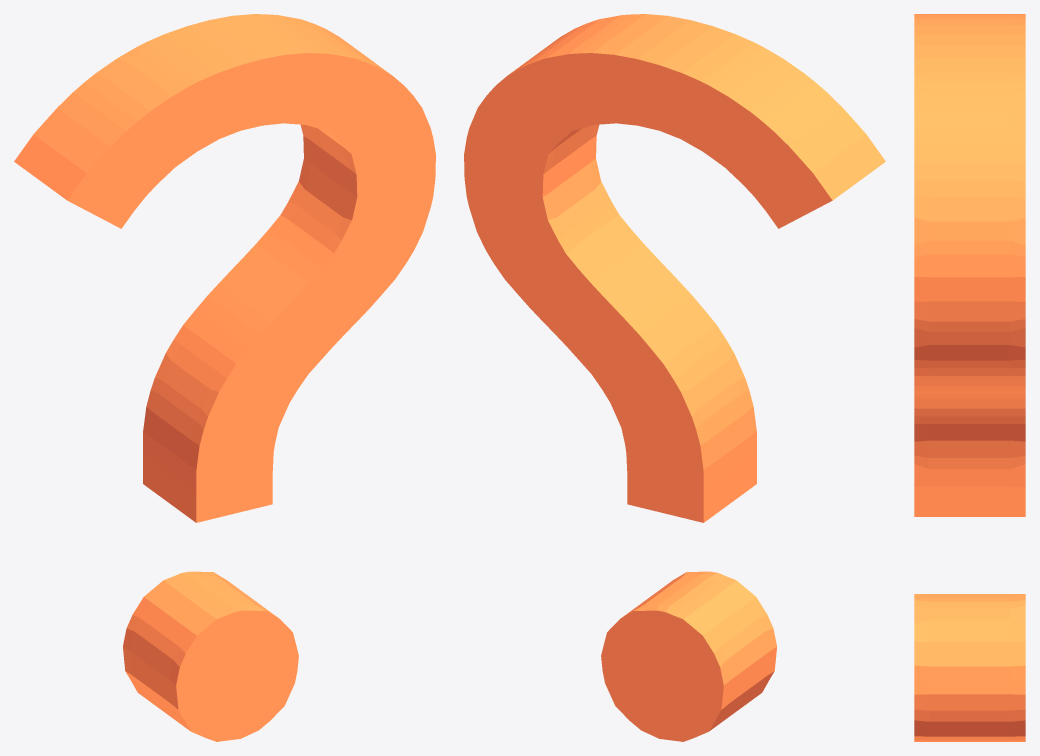
File: question_mark_2.glb
The picture shows the model from 3 angles, left to right: view 1: azimuth 30°, elevation 25°; view 2: azimuth 150°, elevation 25°; view 3: azimuth 270°, elevation 25°; orthographic projection. The views are drawn at different scales.
Parts seen in each view (by area): view 1: Text; view 2: Text; view 3: Text.
Part boxes in pixels (x1,y1,x2,y2): Text: [14, 14, 435, 741]; Text: [464, 14, 885, 741]; Text: [914, 14, 1025, 741].
Size of the model in its own units: 0.2396 by 0.4188 by 0.06.
